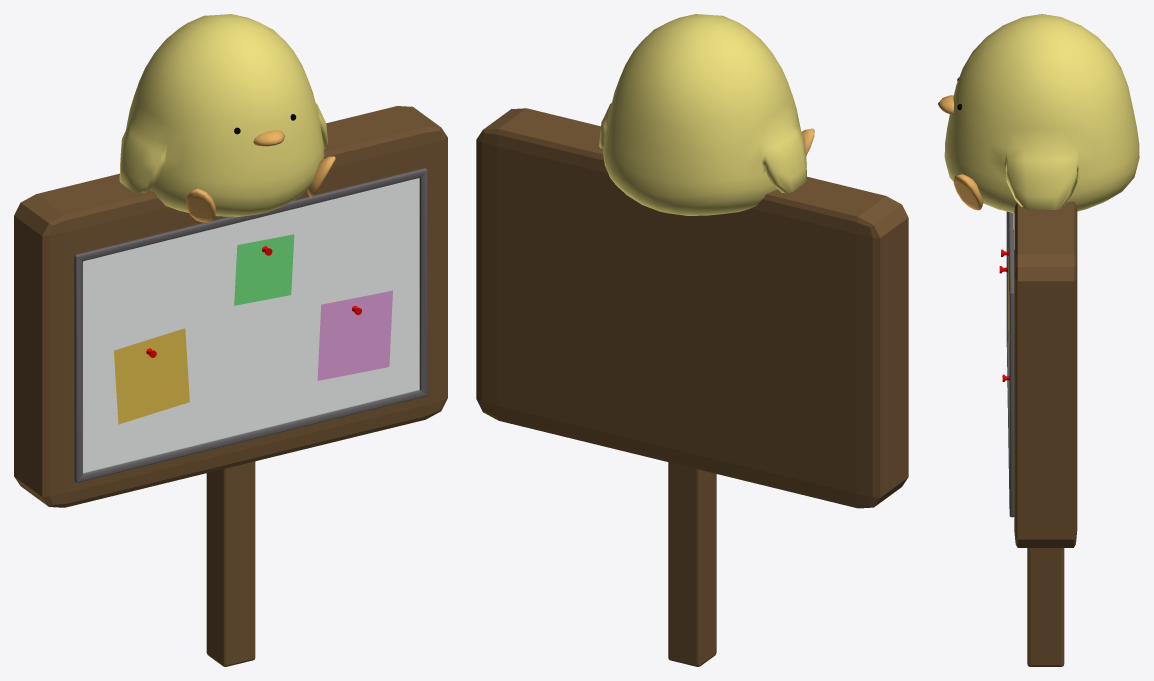
Rendered from board.glb.
3 renders of one model, left to right at view 1: azimuth 30°, elevation 25°; view 2: azimuth 150°, elevation 25°; view 3: azimuth 270°, elevation 25°, orthographic.
Parts seen in each view (by area): view 1: Board, Border, Body, Note03, Note01, Note02, Legs; view 2: Border, Body; view 3: Body, Border, Board, Legs.
Part boxes in pixels (left/top/right/bottom): Board: left=74, top=168, right=427, bottom=482; Border: left=14, top=106, right=447, bottom=666; Body: left=119, top=14, right=328, bottom=216; Note03: left=317, top=290, right=392, bottom=380; Note01: left=114, top=328, right=189, bottom=424; Note02: left=234, top=234, right=294, bottom=305; Legs: left=186, top=156, right=335, bottom=222; Border: left=476, top=108, right=908, bottom=666; Body: left=599, top=14, right=806, bottom=215; Body: left=944, top=14, right=1139, bottom=213; Border: left=1014, top=201, right=1077, bottom=666; Board: left=1006, top=211, right=1014, bottom=517; Legs: left=953, top=174, right=983, bottom=210.
Bounding box in the file's own units: 2 × 3.02 × 0.8707.
